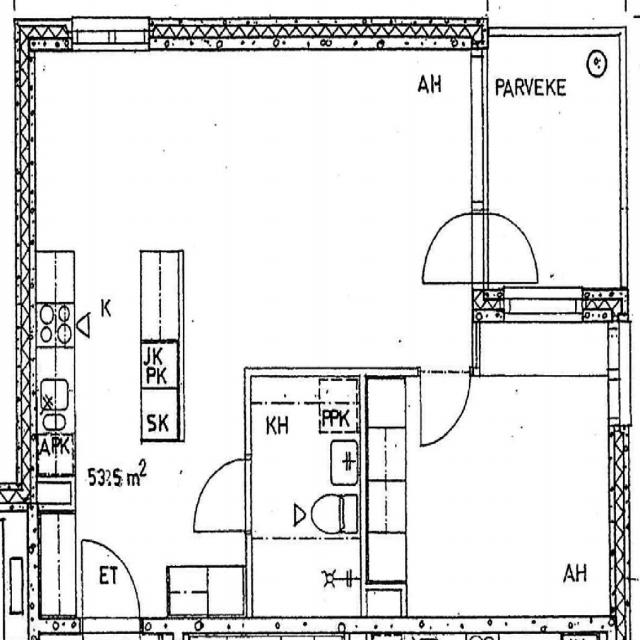door: (83, 540, 140, 632), (420, 212, 488, 283), (472, 212, 539, 283), (192, 459, 252, 531), (420, 367, 470, 444)
